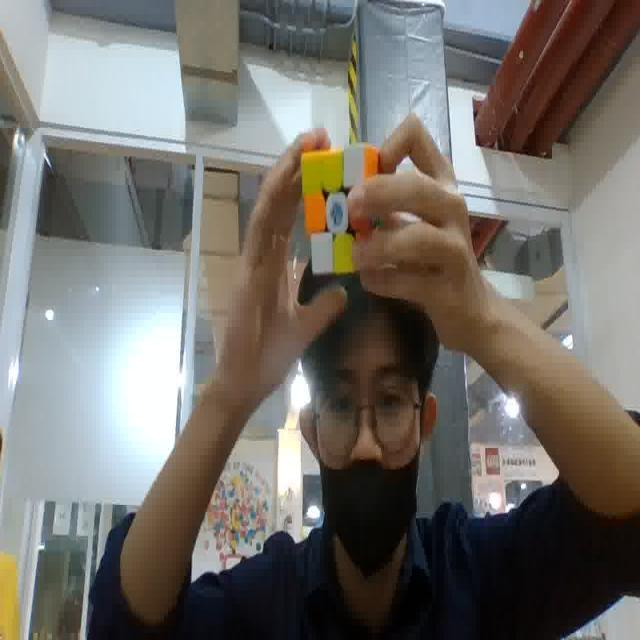Rub: (301, 144, 382, 278)
